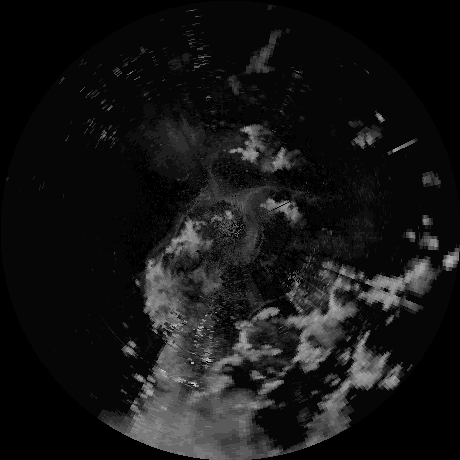frontgust: (149, 195, 224, 249), (247, 184, 319, 200)
